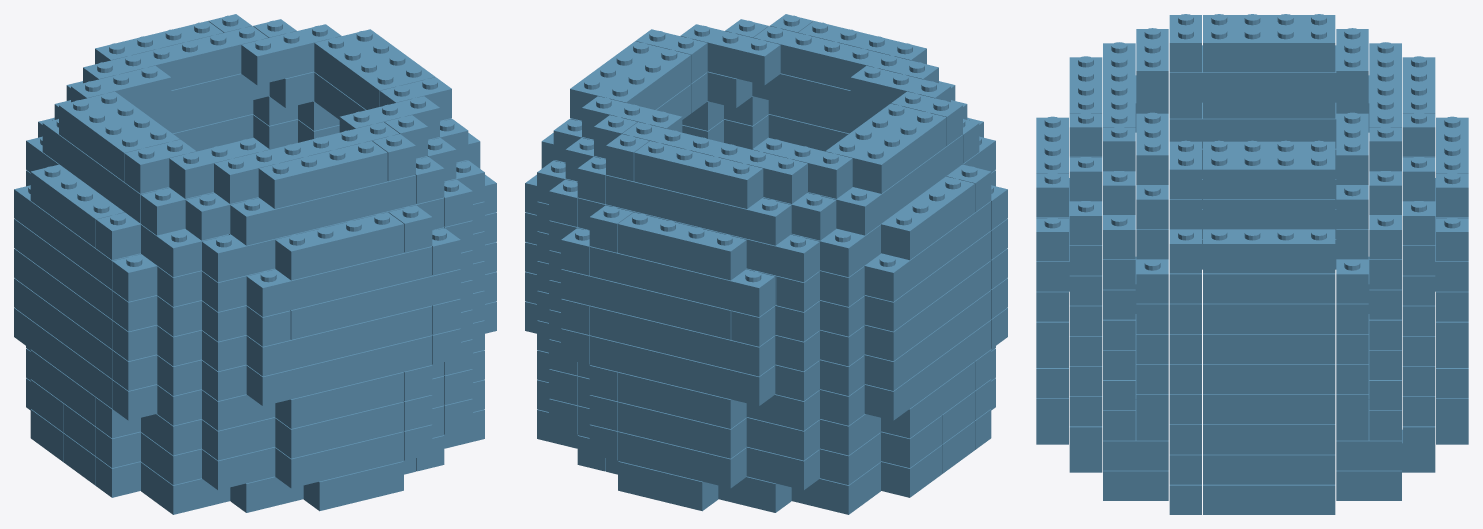
File: 171_jar_L1.glb
The picture shows the model from 3 angles, left to right: view 1: azimuth 30°, elevation 25°; view 2: azimuth 150°, elevation 25°; view 3: azimuth 270°, elevation 25°; orthographic projection.
Size of the model in its own units: 12.98 by 11.13 by 12.98.
